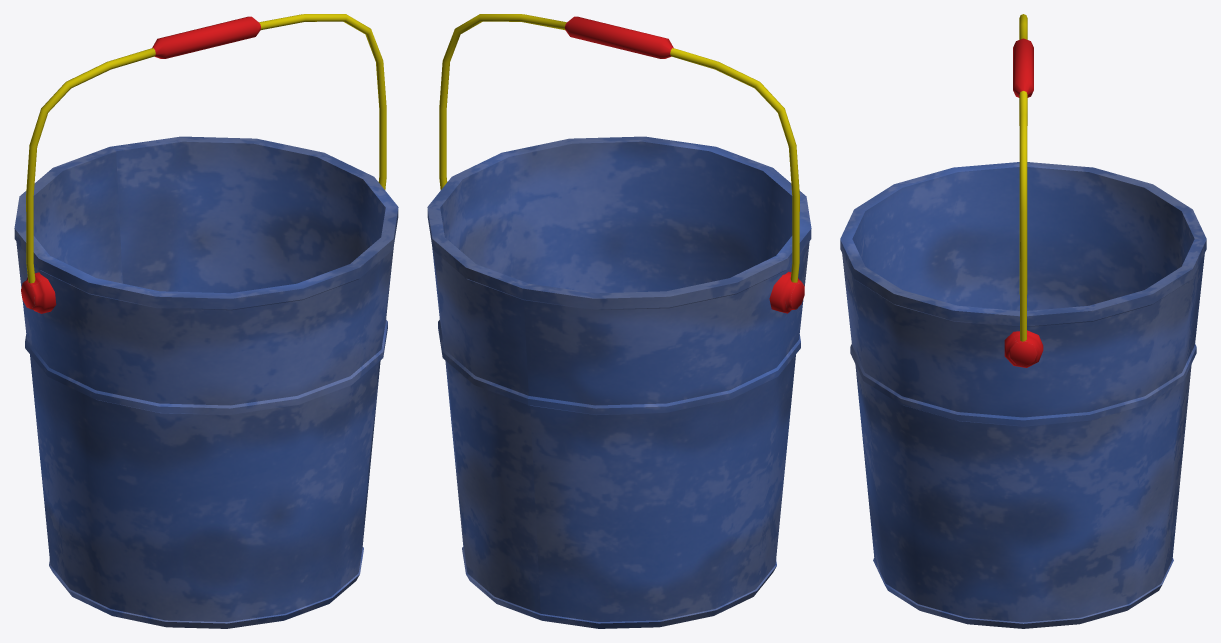
The model's file is Bucket.fbx.
3 views of the same model, side by side, from view 1: azimuth 30°, elevation 25°; view 2: azimuth 150°, elevation 25°; view 3: azimuth 270°, elevation 25° (orthographic). The views are drawn at different scales.
Visible parts, largest first — view 1: Circle; view 2: Circle; view 3: Circle.
Boxes of the visible parts, x1,y1,x2,y2 form: Circle: (14, 14, 398, 628); Circle: (427, 14, 811, 628); Circle: (840, 14, 1206, 628).
Bounding box in the file's own units: 32.49 × 46.31 × 30.28.
